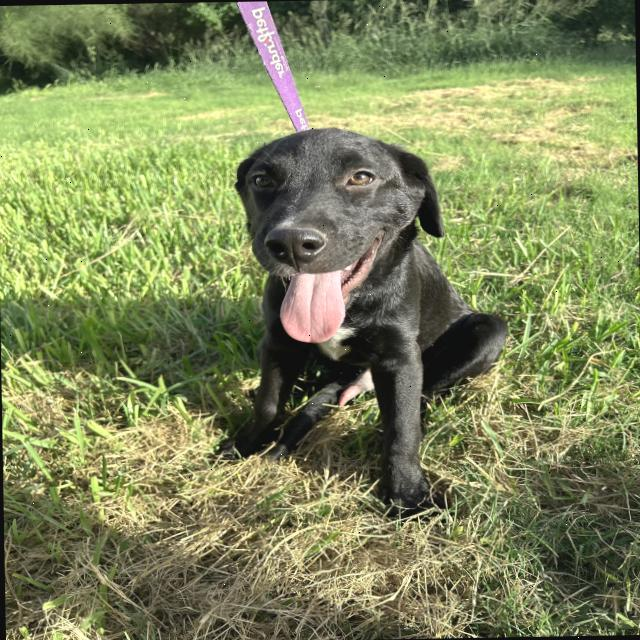labrador_retriever_dog: (192, 117, 464, 365)
